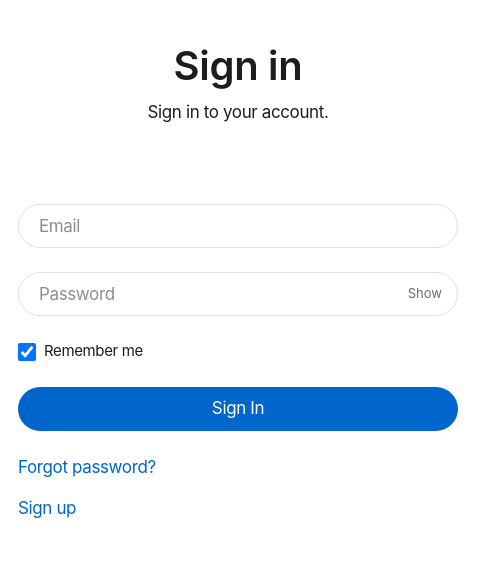
Test: SignInPage - Validation › should validate password length
Type "test@example.com" into the field with placeholder "Email".
click(238, 226); type("test@example.com")  # box [18,204,458,248]
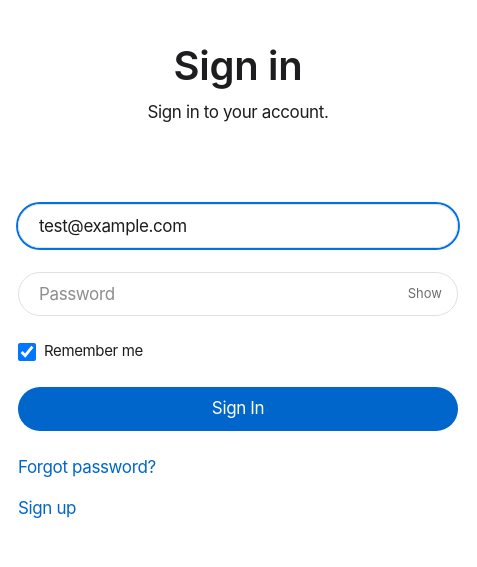
Type "12345" into the password field with placeholder "Password".
click(238, 294); type("12345")  # box [18,272,458,316]
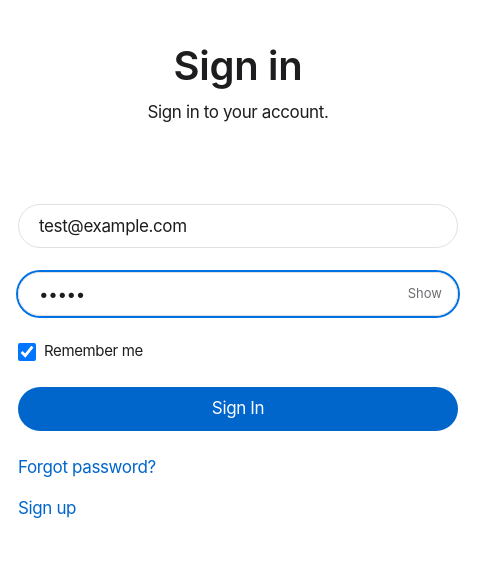
Click the button "Sign In".
click(238, 408)  # box [18,386,458,430]
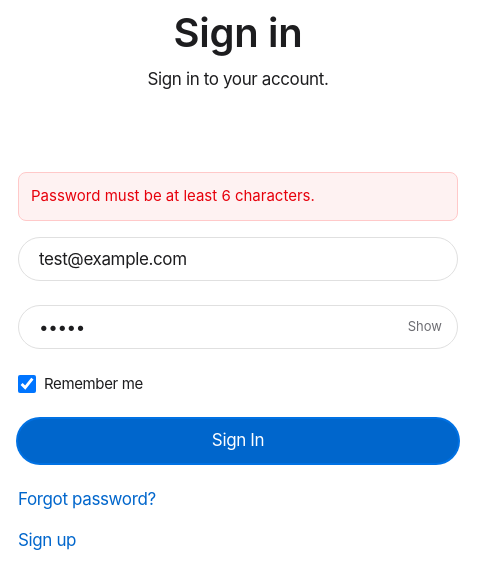
Expected: the text "Password must be at least 6 characters." is shown, [18,172,458,221]
